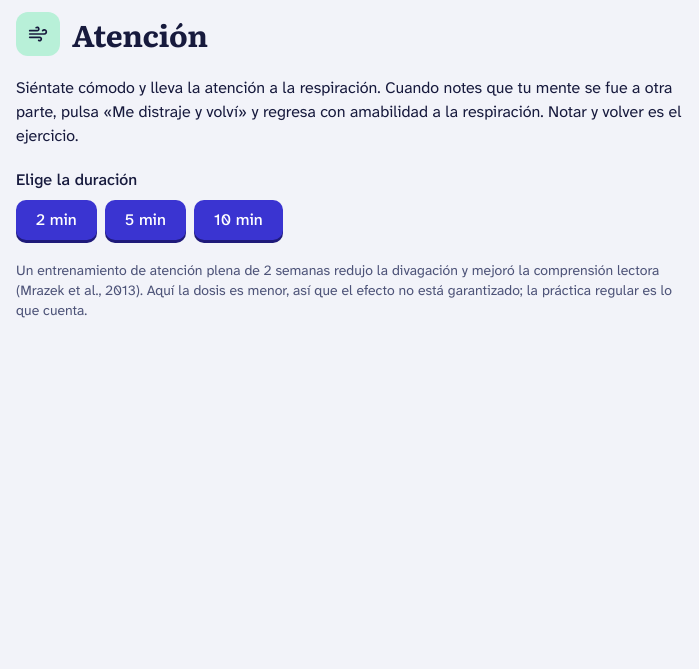
Test: AttentionPage › guarda la sesión al terminar
Click the button "2 min" at coordinates (56, 220), box [16, 200, 97, 240]
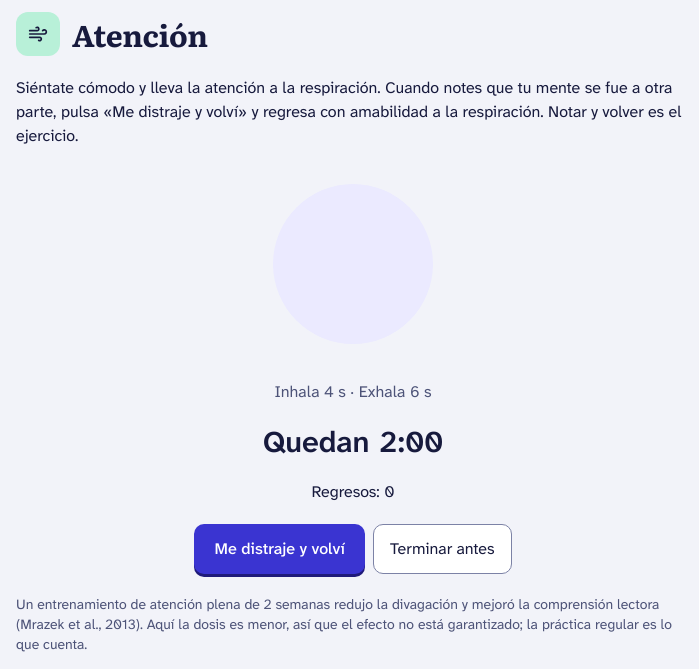
Click the button "Me distraje y volví" at coordinates (280, 549), box [194, 524, 365, 574]
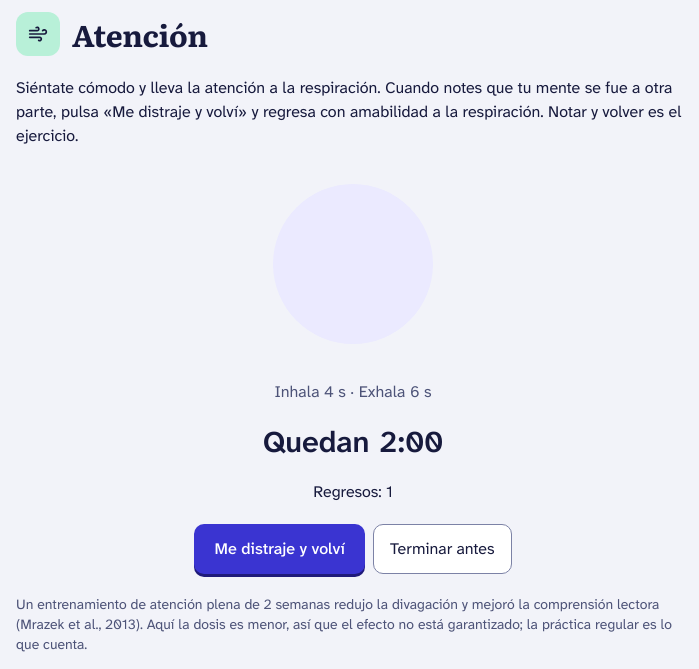
Click the button "Terminar antes" at coordinates (442, 549), box [373, 524, 512, 574]
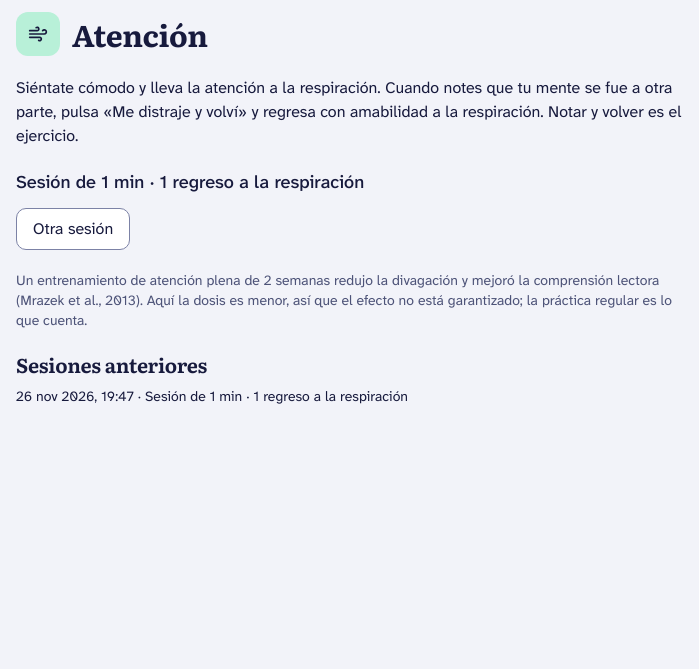
Result: the text "Sesión de 1 min · 1 regreso a la respiración" is shown at [16, 170, 364, 194]
